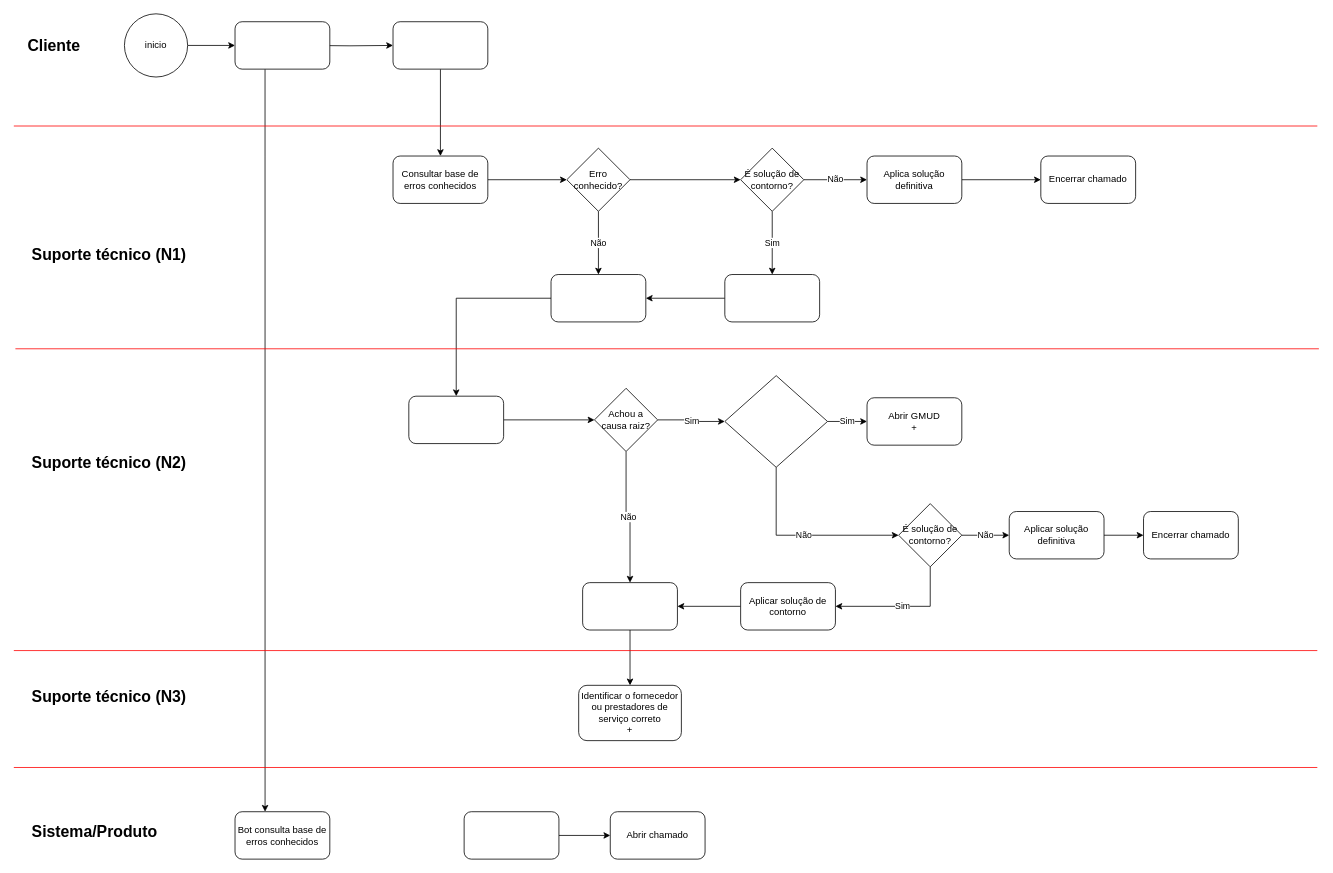
The diagram is 1333 pixels wide and 873 high, and some of its shapes have lost their labels. The shapes that lost their labels are listed below. From the top down, each one's box as (x1, y1, x2, y2) in pixels, then its label:
(234, 21, 330, 69): Cliente comunica
(392, 21, 488, 69): Comunica incidente
(550, 274, 646, 322): Passar incidente para N2
(724, 274, 820, 322): Aplica solução de contorno
(408, 395, 504, 444): Tentar achar o problema
(724, 375, 828, 467): Gera indisponibilidade no sistema?
(582, 582, 677, 630): Chamar o N3
(463, 811, 559, 859): Quando atingir memória RAM ou memória ROM elevada
